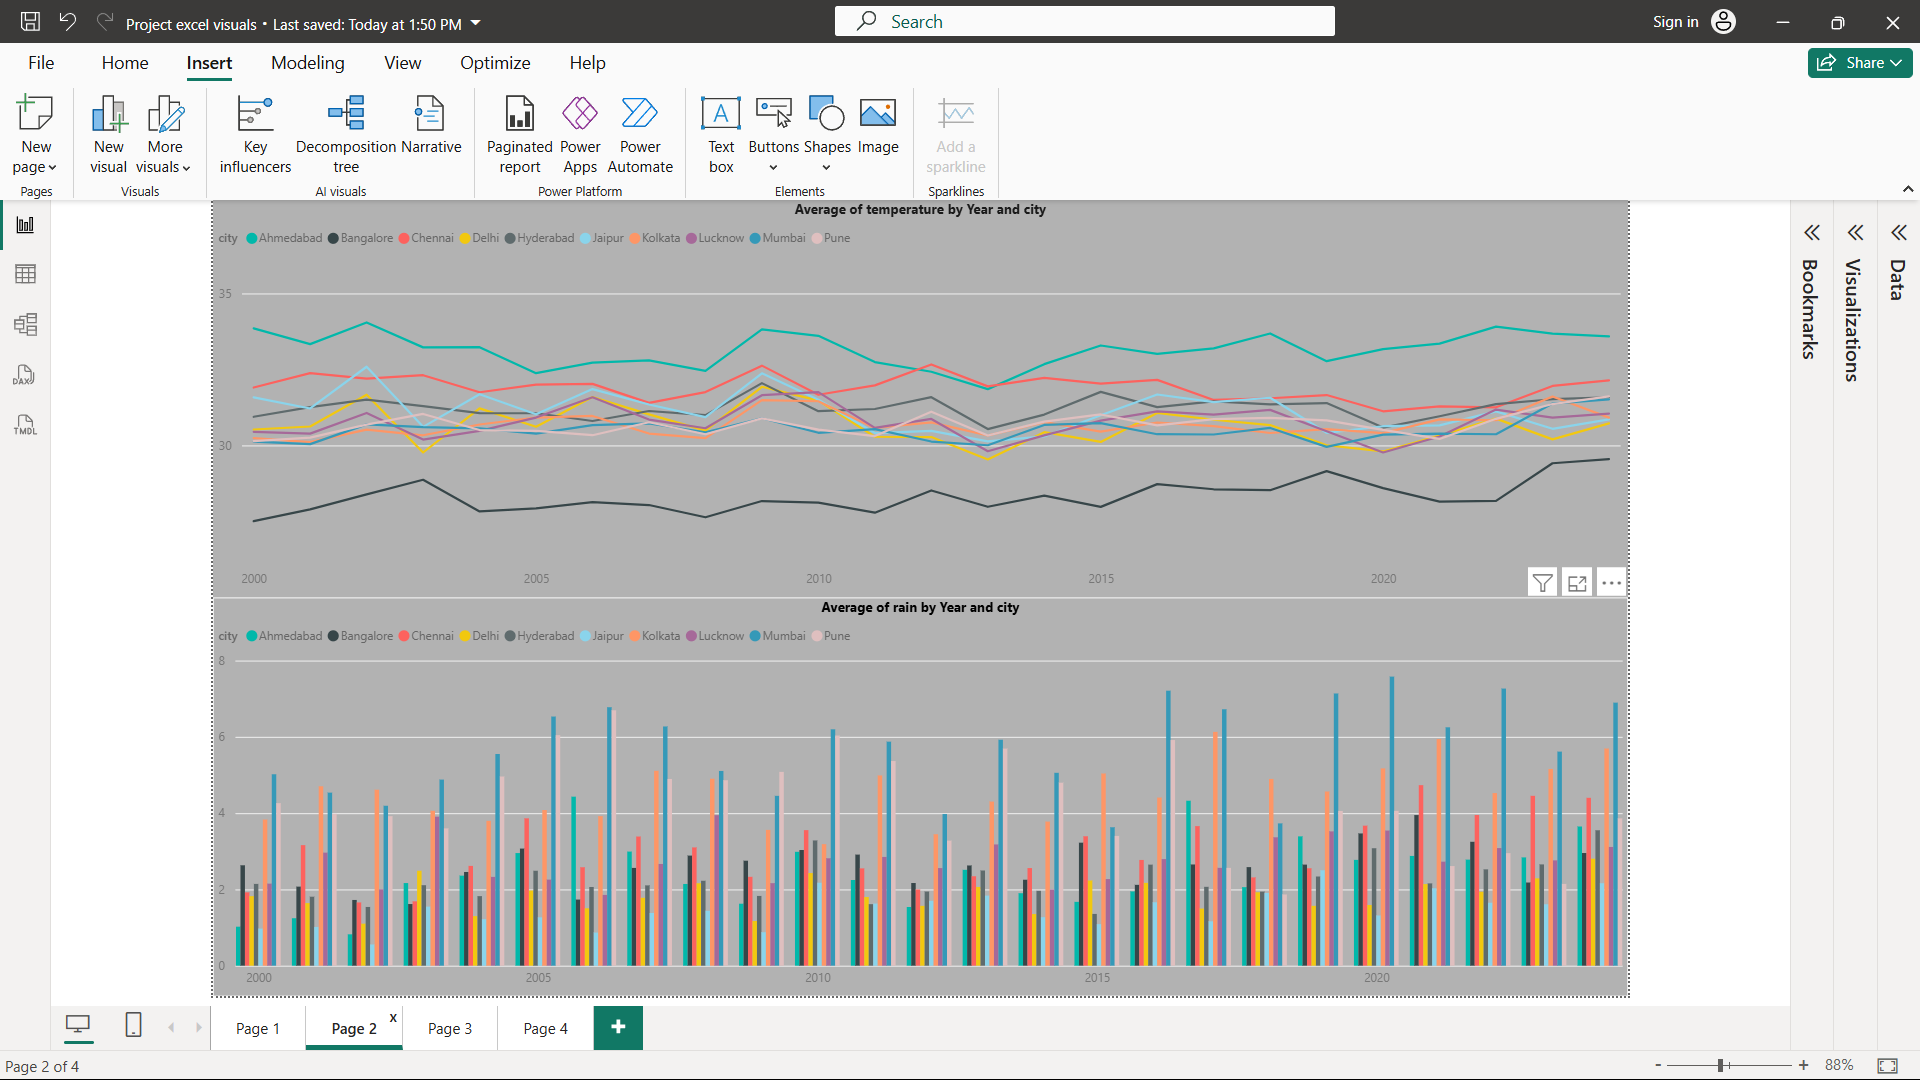

What the dashboard file says about the page in this screenshot:
{"tool":"powerbi","page":{"name":"Page 2","canvas":[1280,720],"ordinal":1},"visuals":[{"type":"lineChart","fields":{"Category":["india_2000_2024_daily_weather_csv.Year"],"Y":["Avg(india_2000_2024_daily_weather_csv.temperature_2m_max)"],"Series":["india_2000_2024_daily_weather_csv.city"]},"box":[0,0,1280,294],"z":0},{"type":"clusteredColumnChart","fields":{"Category":["india_2000_2024_daily_weather_csv.Year"],"Y":["Avg(india_2000_2024_daily_weather_csv.rain_sum)"],"Series":["india_2000_2024_daily_weather_csv.city"]},"box":[0,304,1280,294],"z":1000}]}

Visuals, with their boxes on the page's 1280x720 design canvas (x1, y1, x2, y2). These are canvas units, not pixel positions in the 1920x1080 screenshot, which may show the page scaled, cropped or inside an application window:
lineChart - india_2000_2024_daily_weather_csv.Year x Avg(india_2000_2024_daily_weather_csv.temperature_2m_max): 0:0:1280:294
clusteredColumnChart - india_2000_2024_daily_weather_csv.Year x Avg(india_2000_2024_daily_weather_csv.rain_sum): 0:304:1280:598
